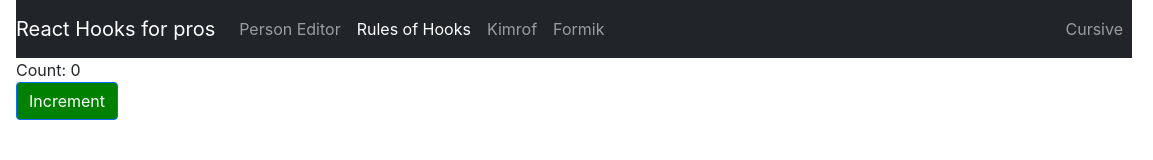
Test: Theme › We can switch to cursive
This screenshot has width=1153, height=160.
Click the button "Cursive" at (1095, 29), box [1057,8,1133,50]
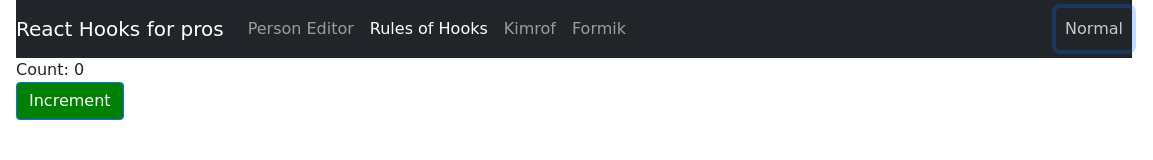
Now the button "Normal" is shown, box [1056,8,1132,50]
